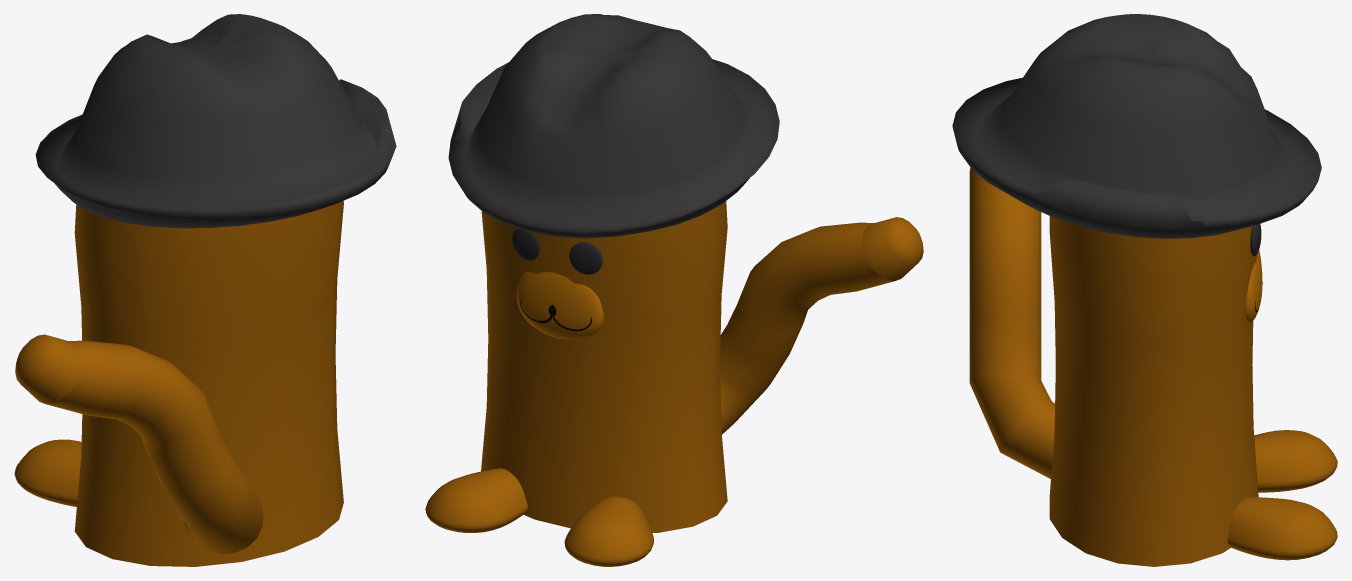
The model's file is Major.FBX.
3 views of the same model, side by side, from view 1: azimuth 30°, elevation 25°; view 2: azimuth 150°, elevation 25°; view 3: azimuth 270°, elevation 25° (orthographic). The views are drawn at different scales.
Visible parts, largest first — view 1: Cylinder001, Sphere007, Cylinder002, Sphere002; view 2: Cylinder001, Sphere007, Cylinder002, Sphere001, Sphere002, Sphere006, Sphere005, Sphere003; view 3: Cylinder001, Sphere007, Cylinder002, Sphere001, Sphere002, Sphere006.
Part boxes in pixels (x1,y1,x2,y2): Cylinder001: (74, 201, 343, 566); Sphere007: (35, 14, 396, 228); Cylinder002: (15, 334, 263, 553); Sphere002: (14, 439, 81, 506); Cylinder001: (481, 201, 727, 532); Sphere007: (448, 14, 779, 238); Cylinder002: (720, 217, 923, 434); Sphere001: (425, 468, 527, 532); Sphere002: (564, 497, 653, 566); Sphere006: (516, 272, 603, 339); Sphere005: (569, 242, 602, 274); Sphere003: (512, 228, 539, 260); Cylinder001: (1049, 216, 1258, 566); Sphere007: (952, 14, 1321, 238); Cylinder002: (969, 167, 1054, 478); Sphere001: (1227, 497, 1337, 560); Sphere002: (1254, 430, 1337, 492); Sphere006: (1245, 249, 1262, 322).
Bounding box in the file's own units: 60.04 × 69.09 × 50.27.
Materials: 8 (8 with a texture image).
